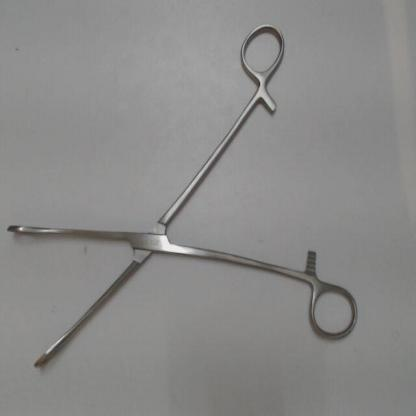Sponge Forceps: (4, 15, 361, 381)
